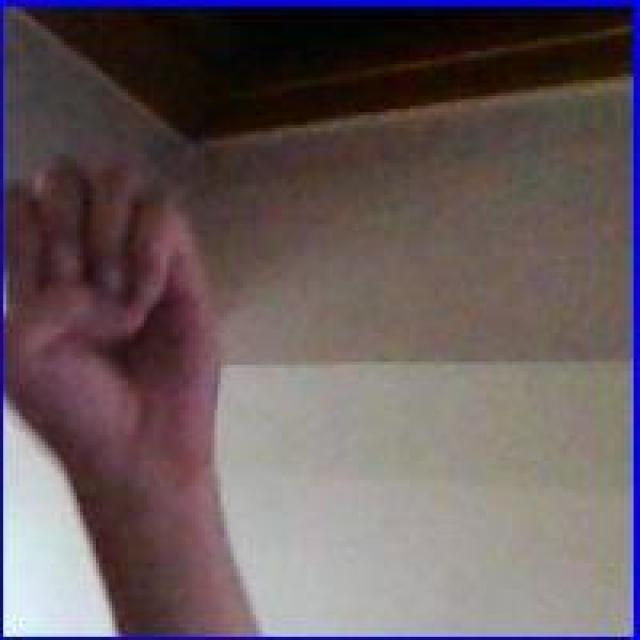E: (7, 155, 230, 485)
